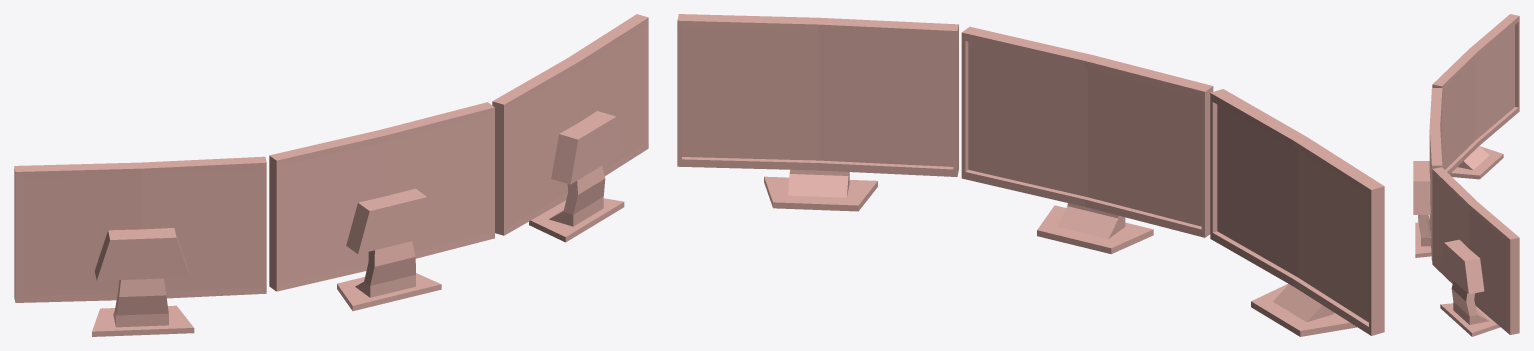
Rendered from Monitores.fbx.
3 views of the same model, side by side, from view 1: azimuth 30°, elevation 25°; view 2: azimuth 150°, elevation 25°; view 3: azimuth 270°, elevation 25° (orthographic). The views are drawn at different scales.
Visible parts, largest first — view 1: Monitores; view 2: Monitores; view 3: Monitores.
Boxes of the visible parts, x1=… form: Monitores: x1=14, y1=14, x2=648, y2=336; Monitores: x1=677, y1=14, x2=1384, y2=336; Monitores: x1=1413, y1=14, x2=1519, y2=336.
Size of the model in its own units: 209 by 49.81 by 41.63.
